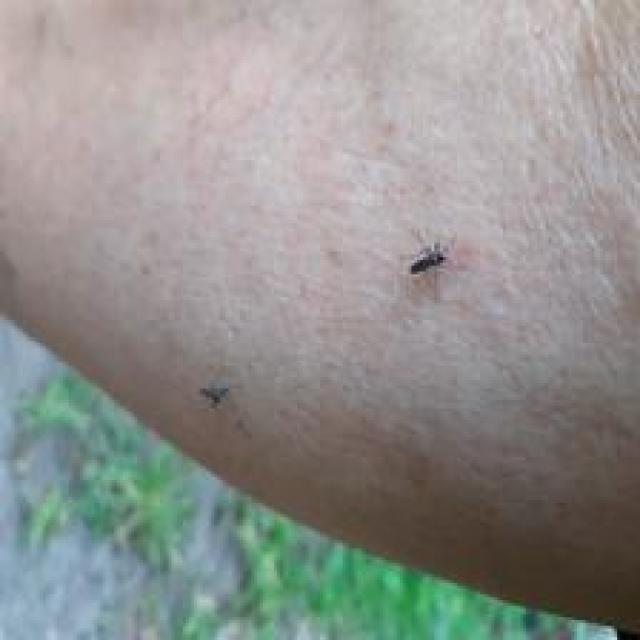Aedes albopictus: (408, 240, 448, 277)
